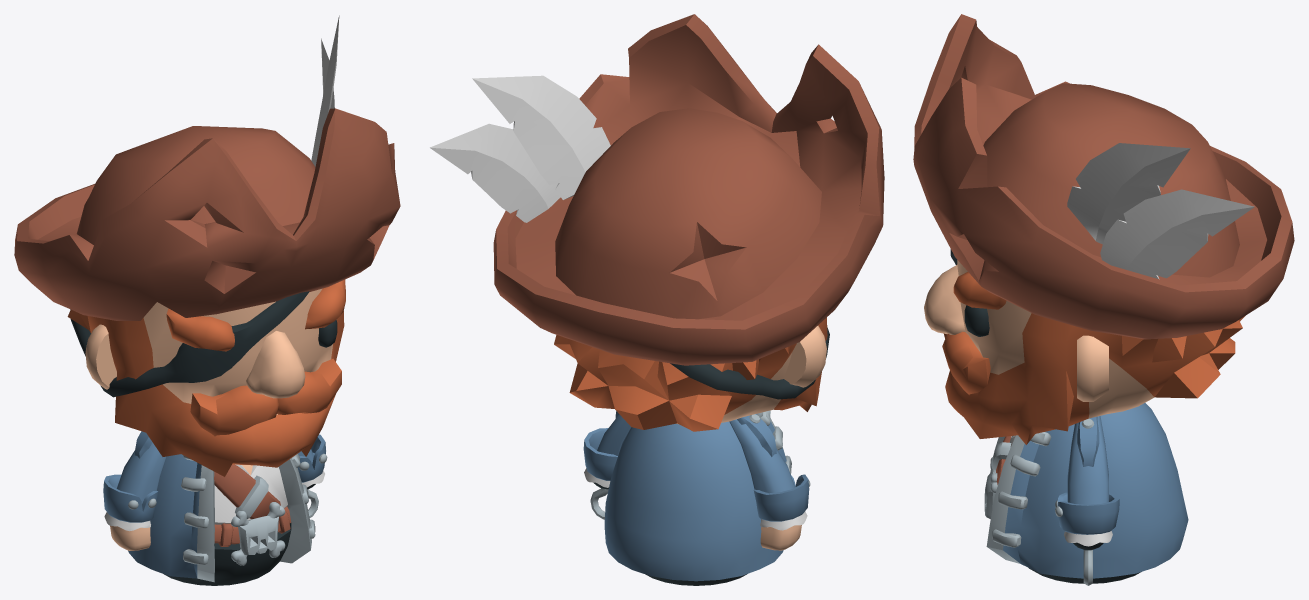
Rendered from character_pirate.dae.
3 views of the same model, side by side, from view 1: azimuth 30°, elevation 25°; view 2: azimuth 150°, elevation 25°; view 3: azimuth 270°, elevation 25° (orthographic). The views are drawn at different scales.
Parts seen in each view (by area): view 1: character_pirate_hat, character_pirate_head, character_pirate_body, character_pirate_armRight, character_pirate_armLeft; view 2: character_pirate_hat, character_pirate_body, character_pirate_head, character_pirate_armRight, character_pirate_armLeft; view 3: character_pirate_hat, character_pirate_head, character_pirate_body, character_pirate_armLeft.
Boxes of the visible parts, x1,y1,x2,y2 form: character_pirate_hat: (14,15,400,320); character_pirate_head: (67,279,345,476); character_pirate_body: (128,454,315,585); character_pirate_armRight: (103,431,166,550); character_pirate_armLeft: (298,434,327,517); character_pirate_hat: (430,14,884,365); character_pirate_body: (604,410,791,585); character_pirate_head: (554,317,829,431); character_pirate_armRight: (729,414,810,550); character_pirate_armLeft: (583,411,631,519); character_pirate_hat: (913,14,1294,339); character_pirate_head: (924,249,1244,444); character_pirate_body: (984,403,1188,583); character_pirate_armLeft: (1055,416,1119,585).
Size of the model in its own units: 1.62 by 1.44 by 2.14.
